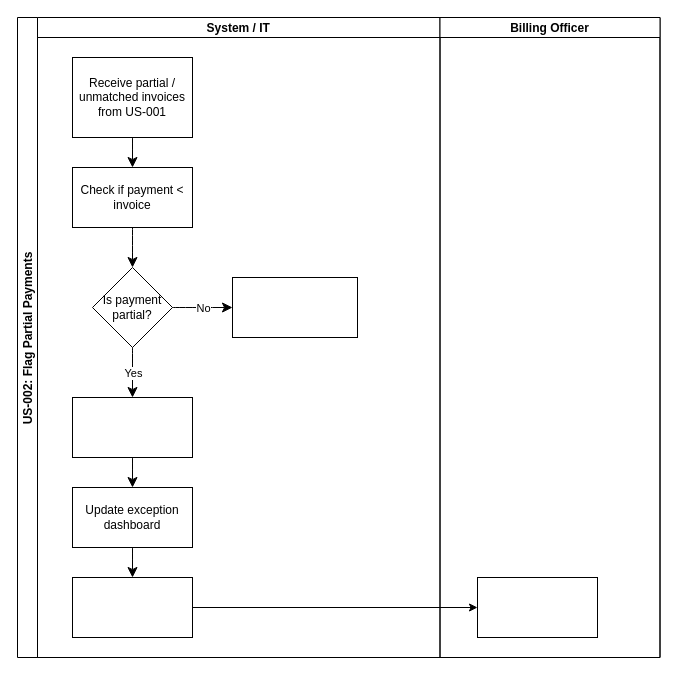
The diagram is 678 pixels wide and 675 high, and some of its shapes have lost their labels. Here are the shapes that lost their labels. From the top down, the box of each, then its label:
(232, 276, 358, 338): Route to investigation / closure by Billing Officer
(72, 396, 192, 458): Flag invoice as exception
(72, 576, 192, 638): Send notification
(476, 576, 598, 638): Review flagged invoices
